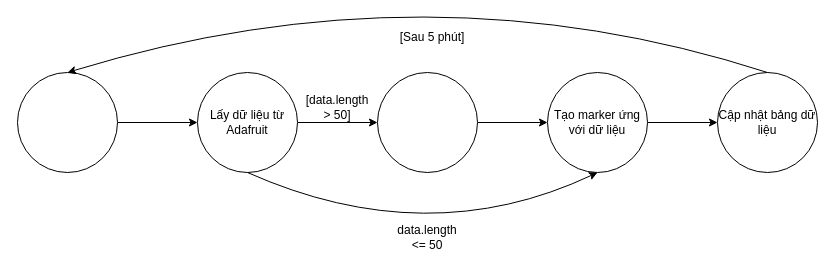
This 835x270 diagram has some shape labels left out. The shapes that lost their labels are listed below. From the top down, each one's box as (x1, y1, x2, y2) in pixels, then its label:
(16, 72, 118, 172): Xóa tất cả marker hiện có
(376, 72, 478, 172): Lọc 50 dữ liệu gần nhất
